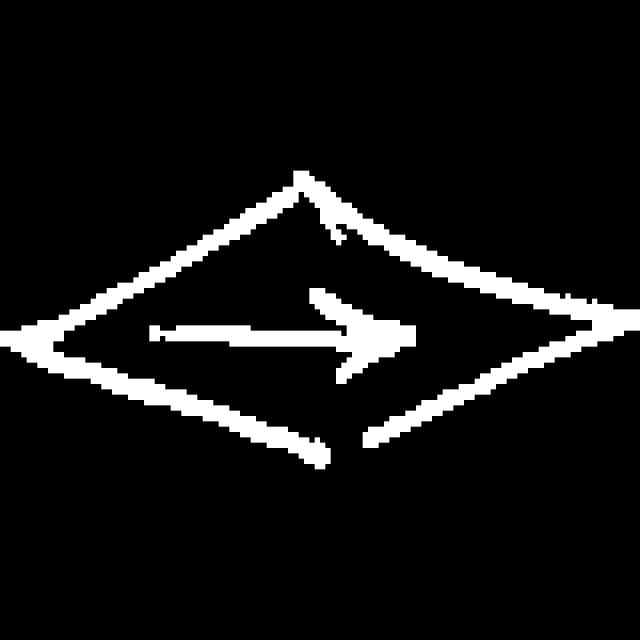dependant_current: (9, 165, 625, 472)
